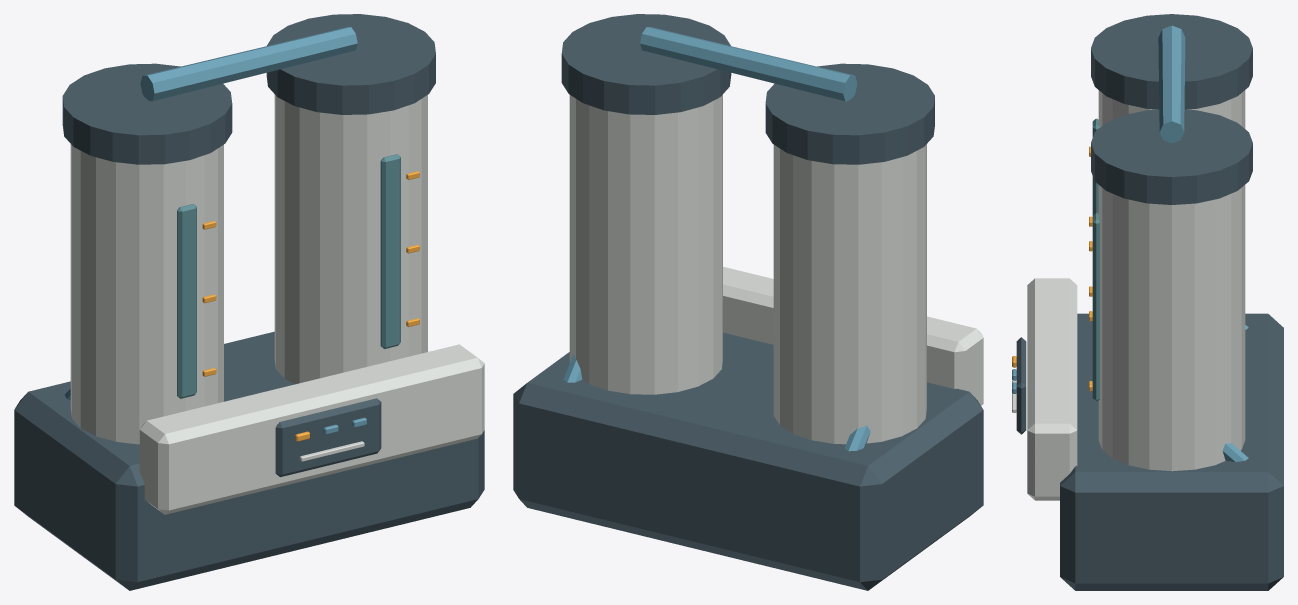
3 renders of one model, left to right at view 1: azimuth 30°, elevation 25°; view 2: azimuth 150°, elevation 25°; view 3: azimuth 270°, elevation 25°, orthographic. The views are drawn at different scales.
Visible parts, largest first — view 1: MI-004 Paired-vessel water recovery unit batched; view 2: MI-004 Paired-vessel water recovery unit batched; view 3: MI-004 Paired-vessel water recovery unit batched.
Boxes of the visible parts, <box> form: MI-004 Paired-vessel water recovery unit batched: <box>14,14,484,590</box>; MI-004 Paired-vessel water recovery unit batched: <box>513,14,983,590</box>; MI-004 Paired-vessel water recovery unit batched: <box>1012,14,1283,590</box>.
Bounding box in the file's own units: 1.05 × 1.25 × 0.704.
